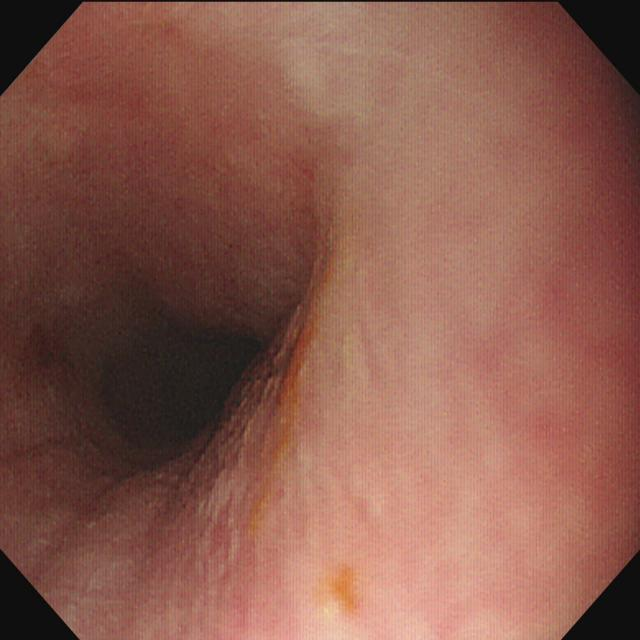E: (78, 272, 276, 517)
